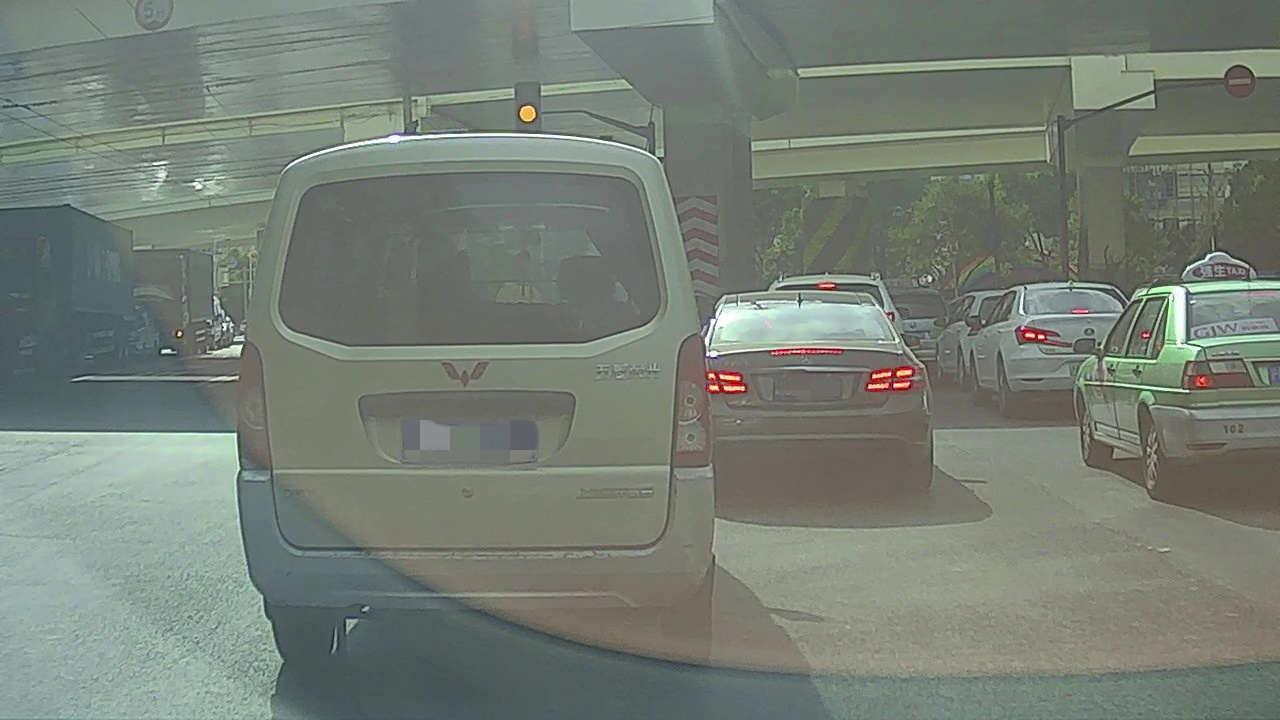traffic_light: (515, 82, 541, 132)
